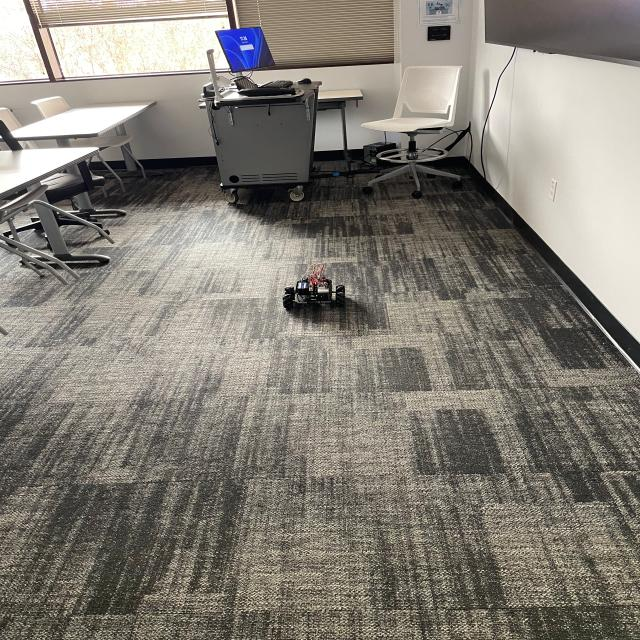ArduinoCar: (279, 262, 349, 313)
